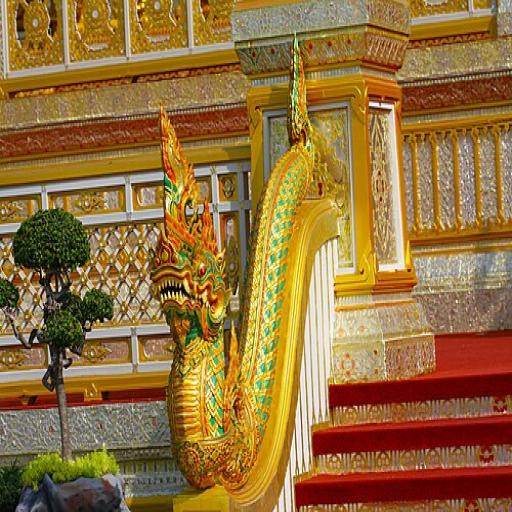ran: (154, 109, 315, 482)
